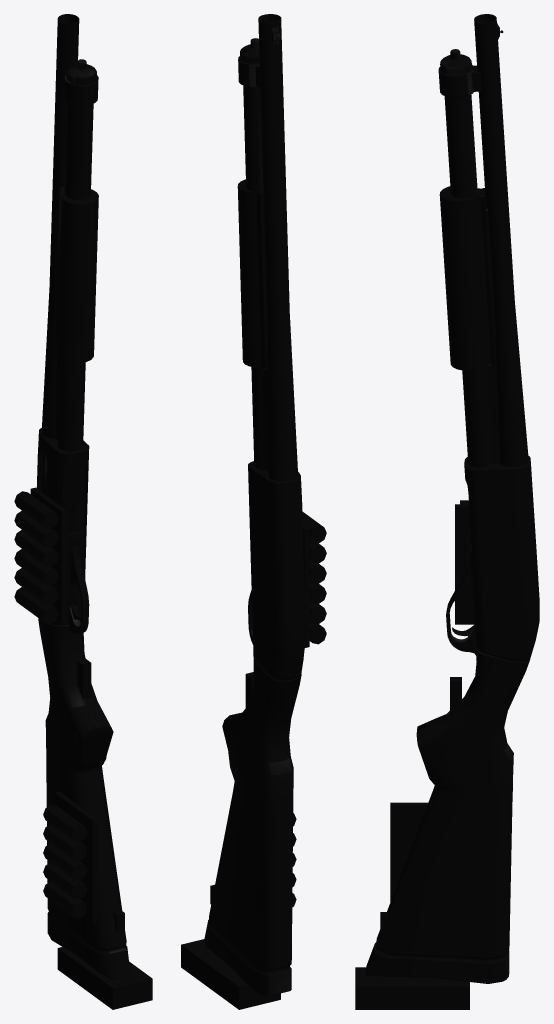
Rendered from Rem870__RecoilPad_Rubber__ShellHolder_Butt__Sidesaddle_Shotgun__Stock_870_Folding.fbx.
3 views of the same model, side by side, from view 1: azimuth 30°, elevation 25°; view 2: azimuth 210°, elevation 25°; view 3: azimuth 270°, elevation 25° (orthographic). The views are drawn at different scales.
Parts seen in each view (by area): view 1: asset_Rem870.001; view 2: asset_Rem870.001; view 3: asset_Rem870.001.
Boxes of the visible parts, box(x1,y1,x2,y2) form: asset_Rem870.001: box(14, 14, 152, 1009); asset_Rem870.001: box(181, 14, 326, 1009); asset_Rem870.001: box(355, 14, 539, 1009).
Bounding box in the file's own units: 0.0429 × 0.651 × 0.1108.
